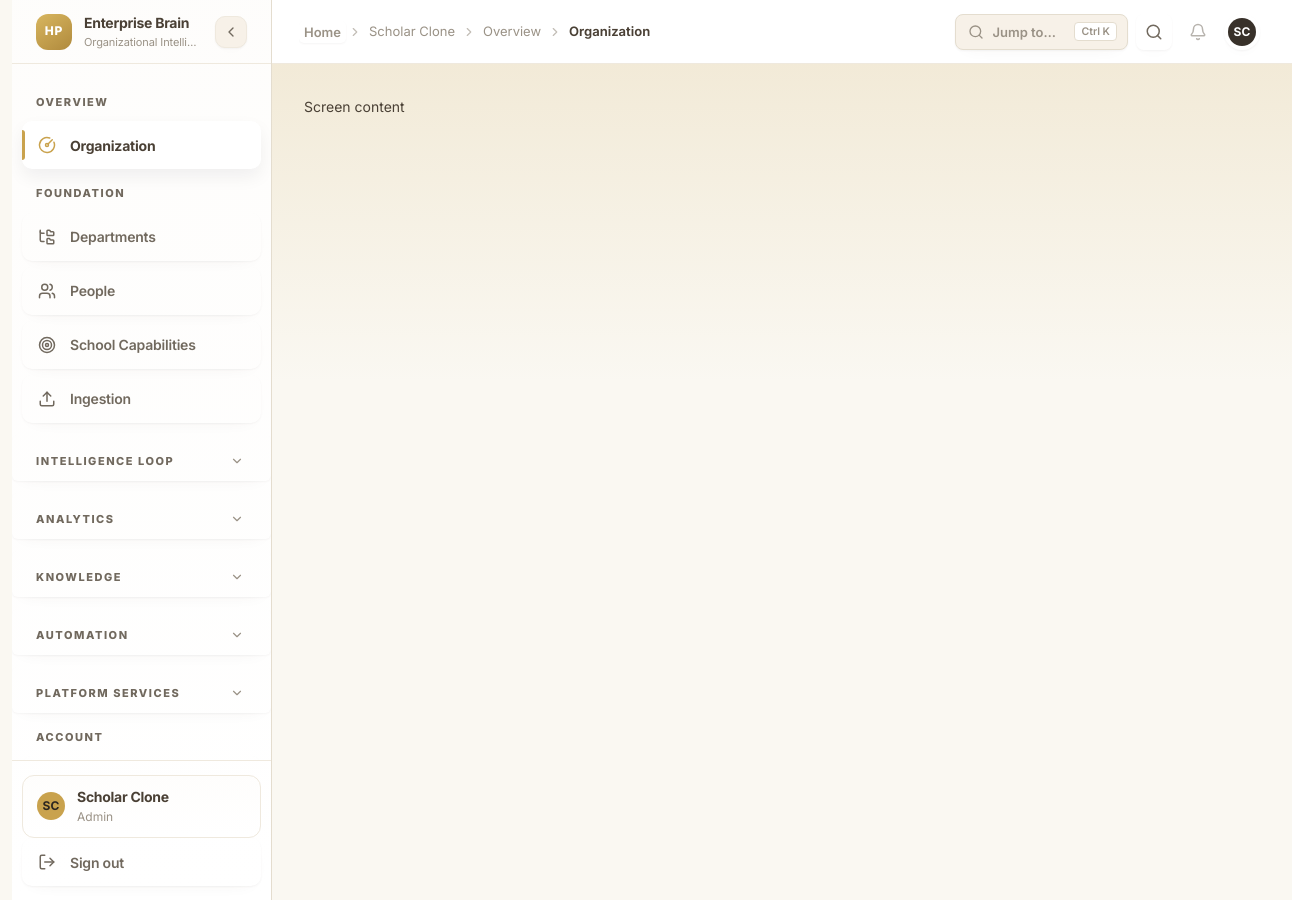
Scenario: user menu › lists the Platform Services the role may reach, and navigates to one
Click the button with aria-label "Account menu for Scholar Clone".
click(1242, 32)  # box [1224, 14, 1260, 50]
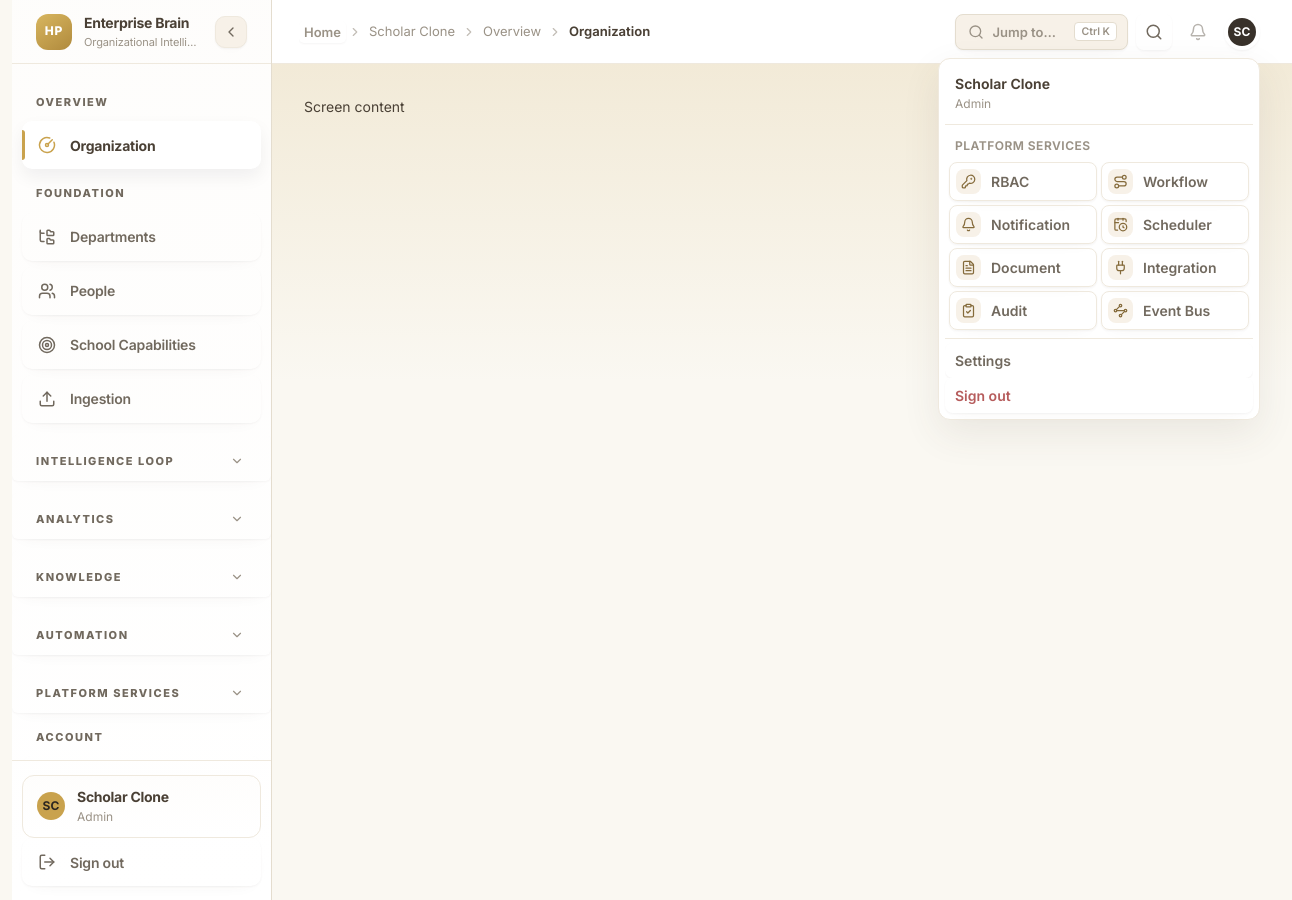
Click the menu item "Audit".
click(1023, 310)  # box [949, 290, 1097, 330]
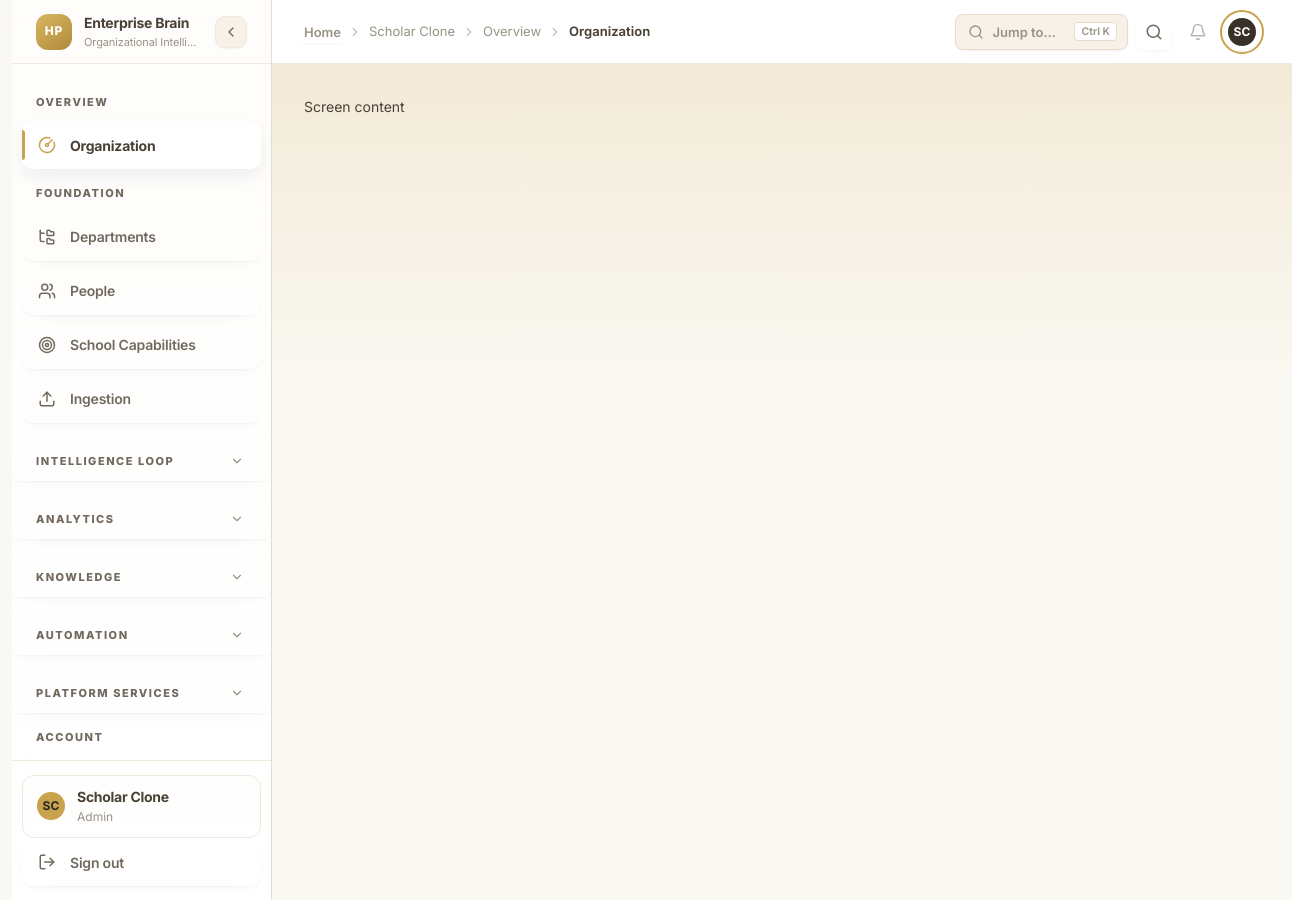
Expected: the menu is gone
